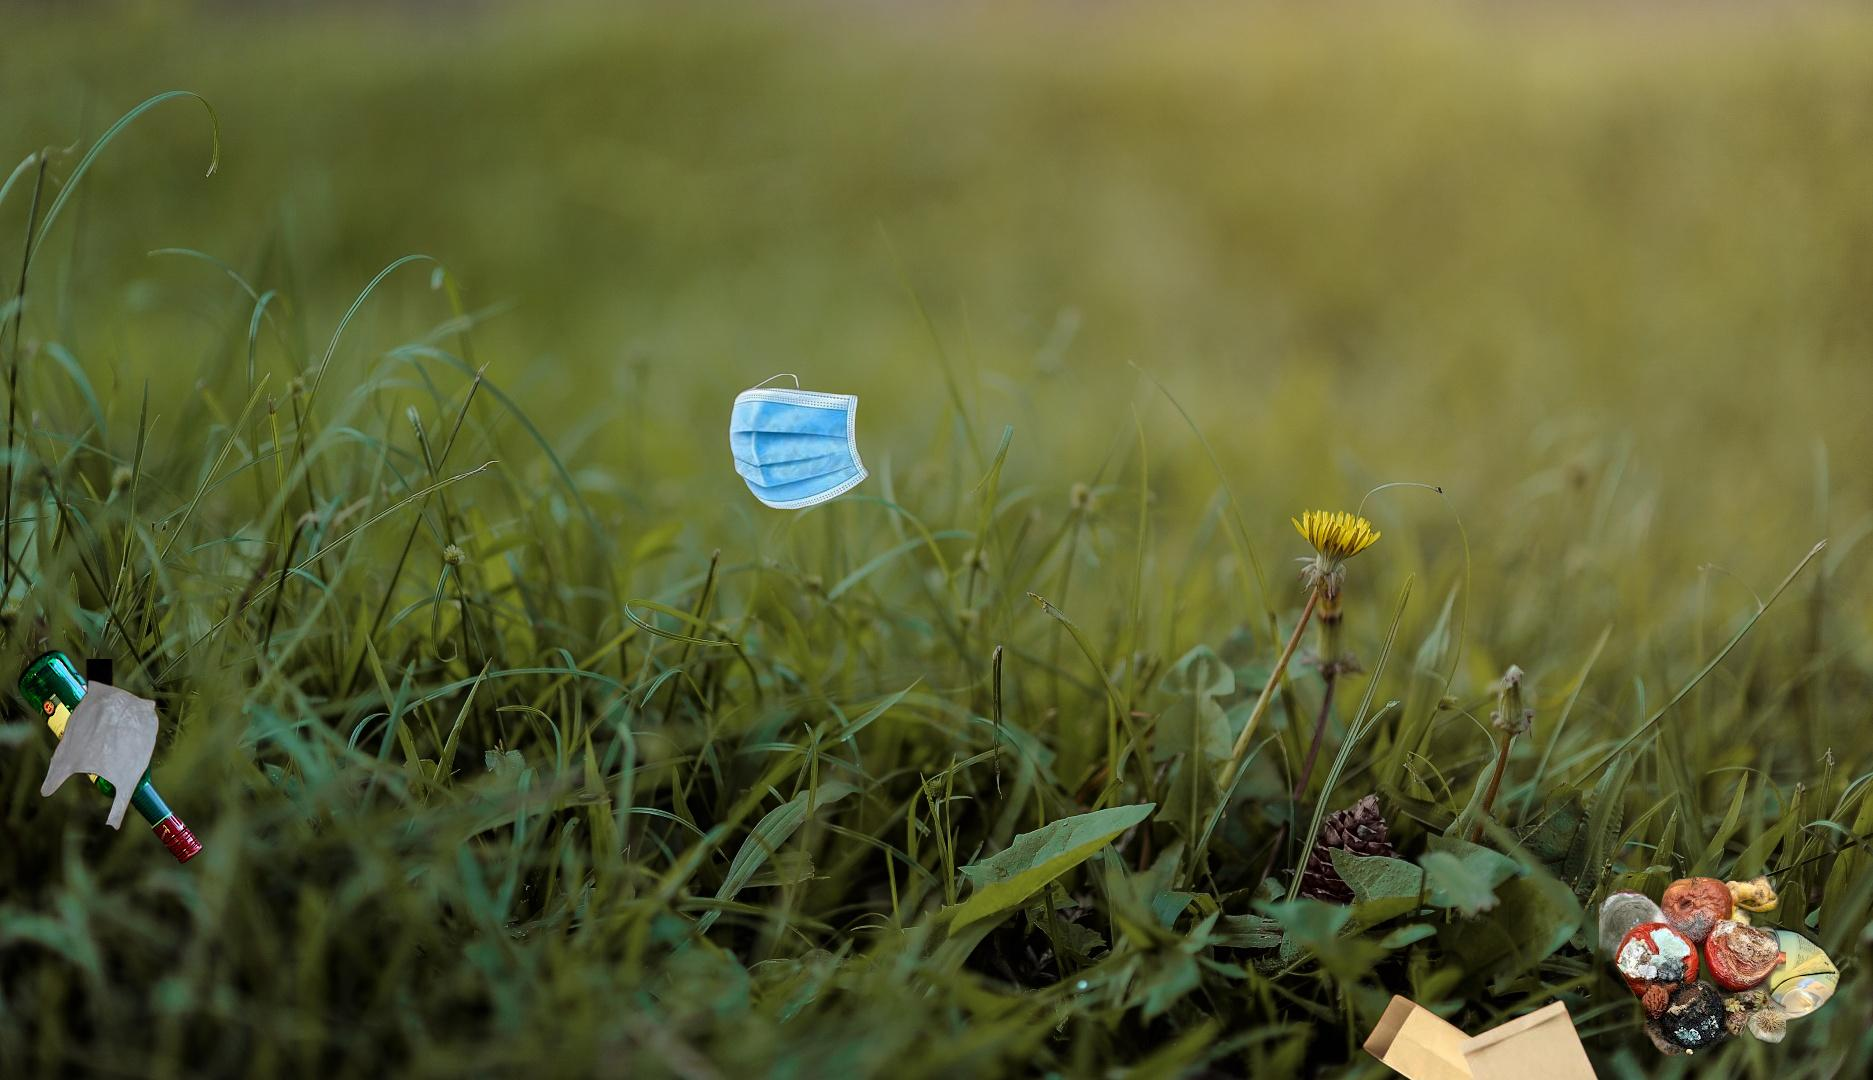biological: (1599, 869, 1786, 1080)
glass: (13, 643, 207, 870)
metal-cans: (1411, 395, 1873, 1077)
paper-bag: (1360, 991, 1631, 1080)
plastic-bag: (37, 660, 246, 959)
trash: (726, 372, 872, 513)
